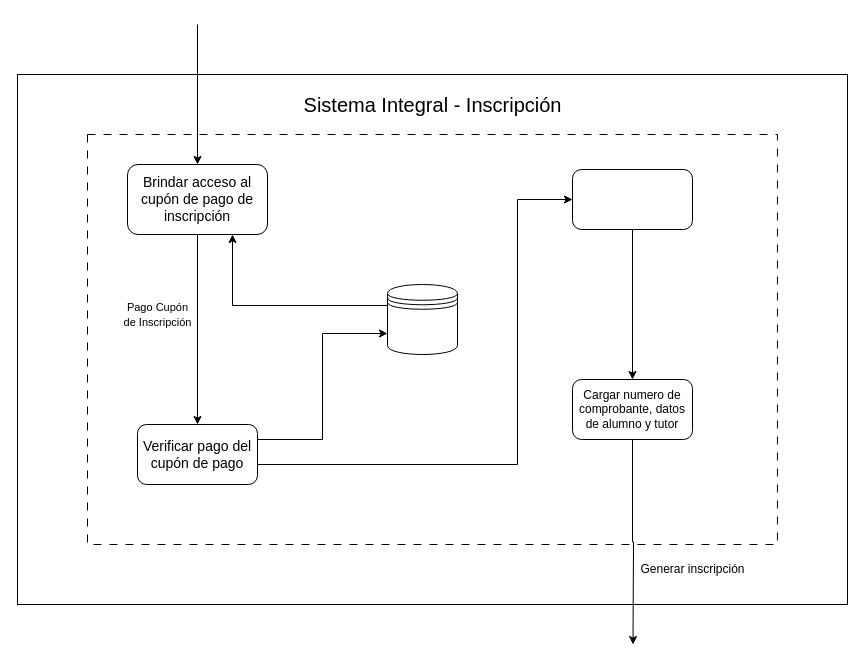
This 865x670 diagram has some shape labels left out. The shapes that lost their labels are listed below. From the top down, each one's centre as x and y in pixels, then its label:
point (632, 199): Crear legajo
point (422, 319): B.D
